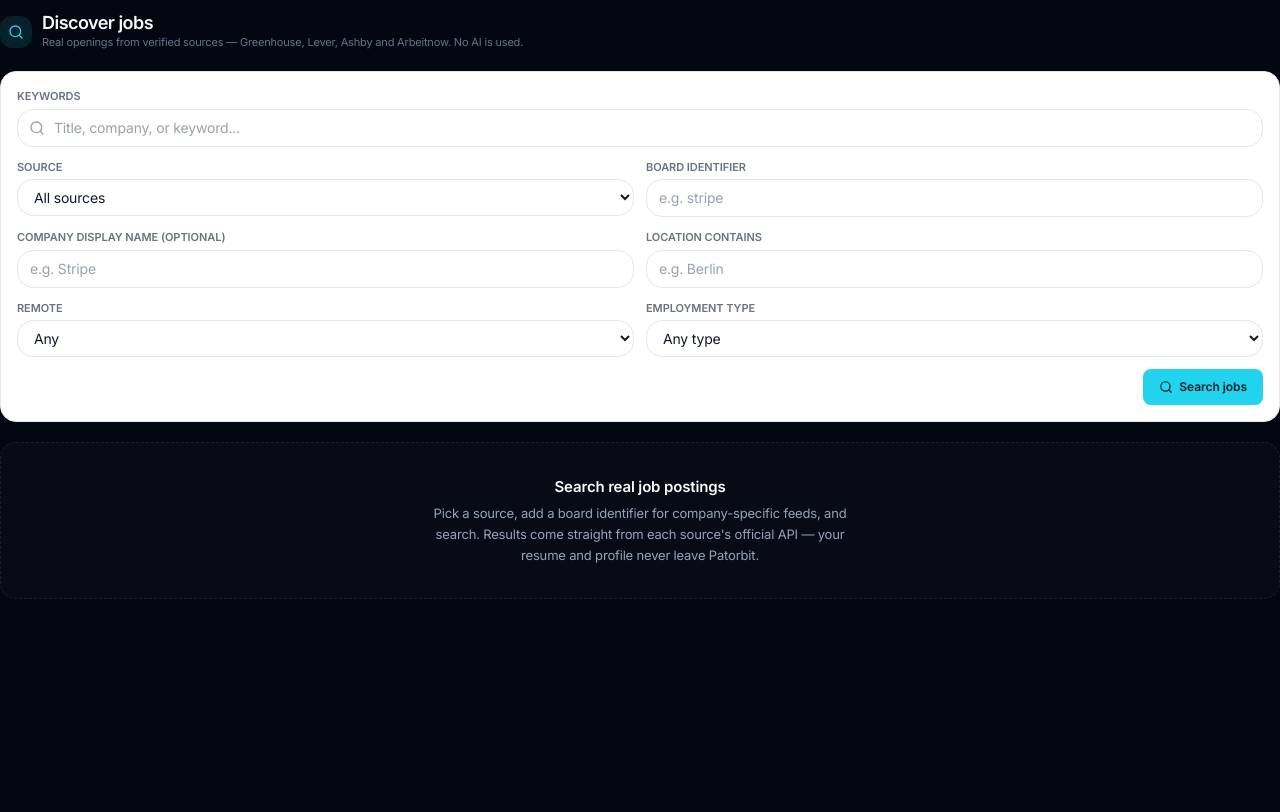
Test case: JobDiscoveryPanel › renders a generic error state for unexpected server failures
Click the button "Search jobs". click: (1203, 387)
box: 1143,369 -> 1263,405
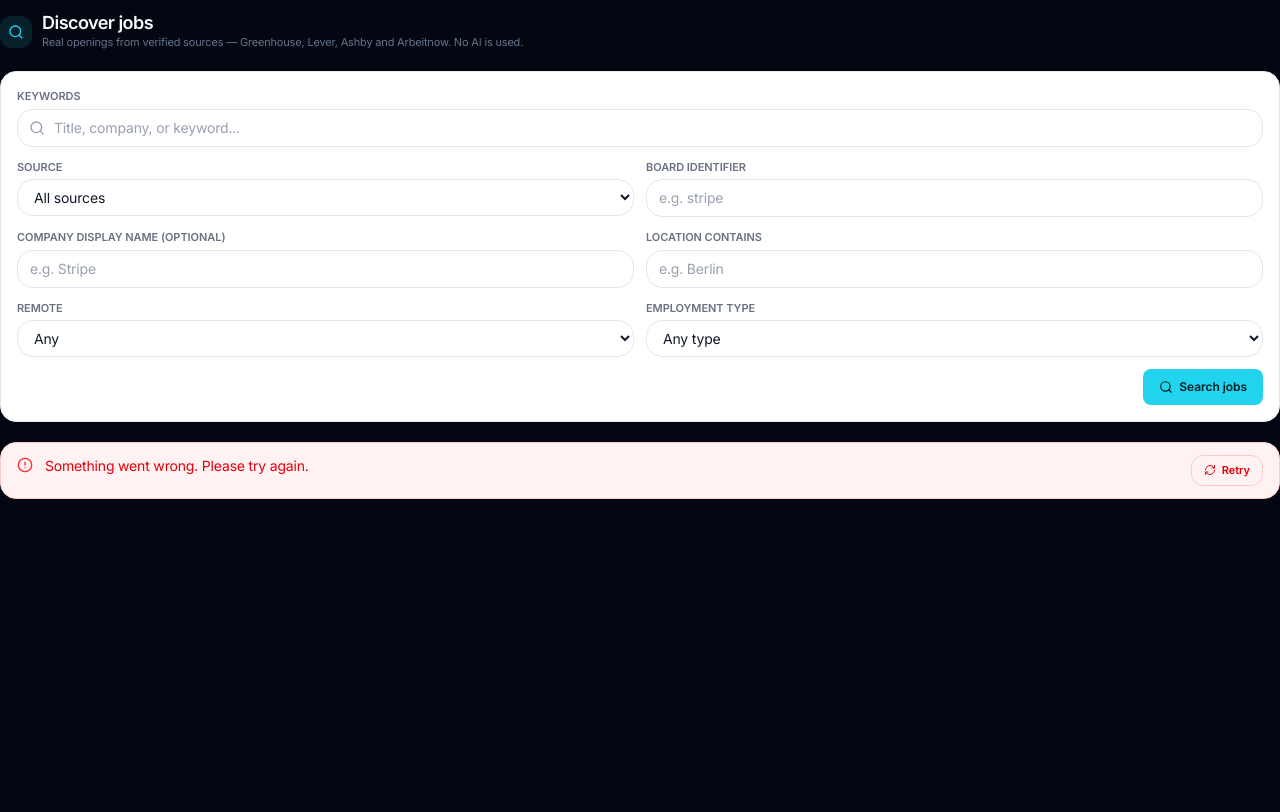
Now the message "Something went wrong. Please try again. Retry" is shown, box 0,442 -> 1279,499
Now the text "Something went wrong" is shown, box 45,457 -> 309,474
